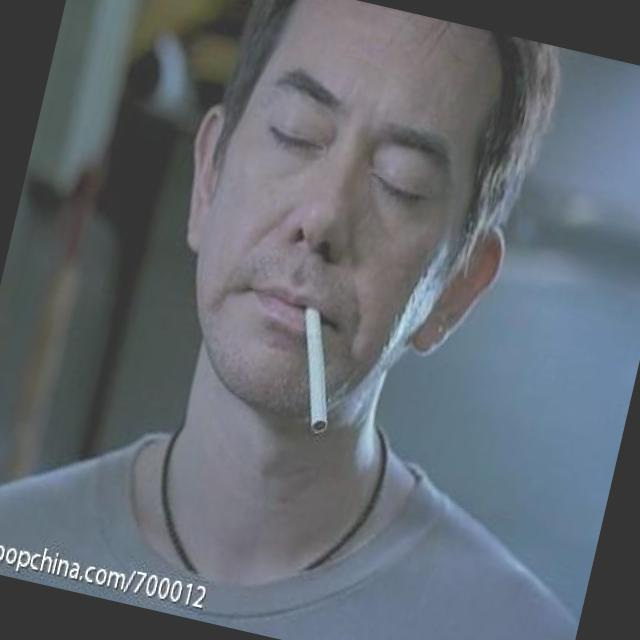smoke: (278, 304, 353, 438)
